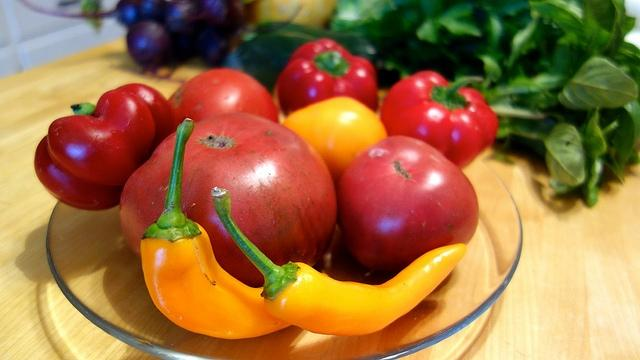bell pepper: (34, 83, 175, 211), (380, 70, 498, 170), (280, 96, 388, 186), (272, 38, 379, 124)
cucumber: (239, 22, 402, 100)
hot pepper: (34, 84, 176, 210), (379, 70, 498, 170), (274, 38, 378, 116)
tomato: (119, 112, 338, 288), (334, 134, 478, 272), (380, 70, 498, 170), (280, 96, 388, 196), (168, 68, 279, 132)
